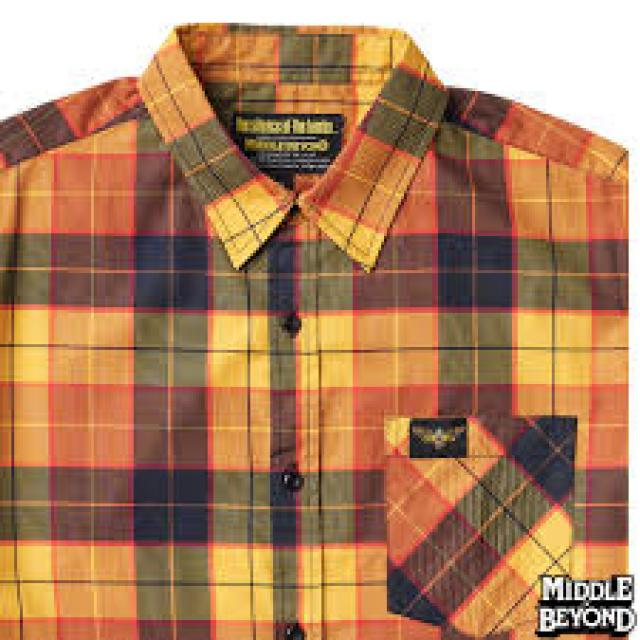plaid: (5, 35, 636, 637)
